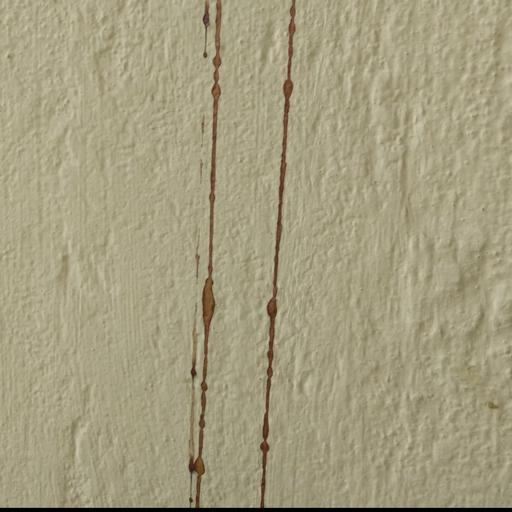stain: (176, 0, 311, 512), (466, 369, 512, 451)
